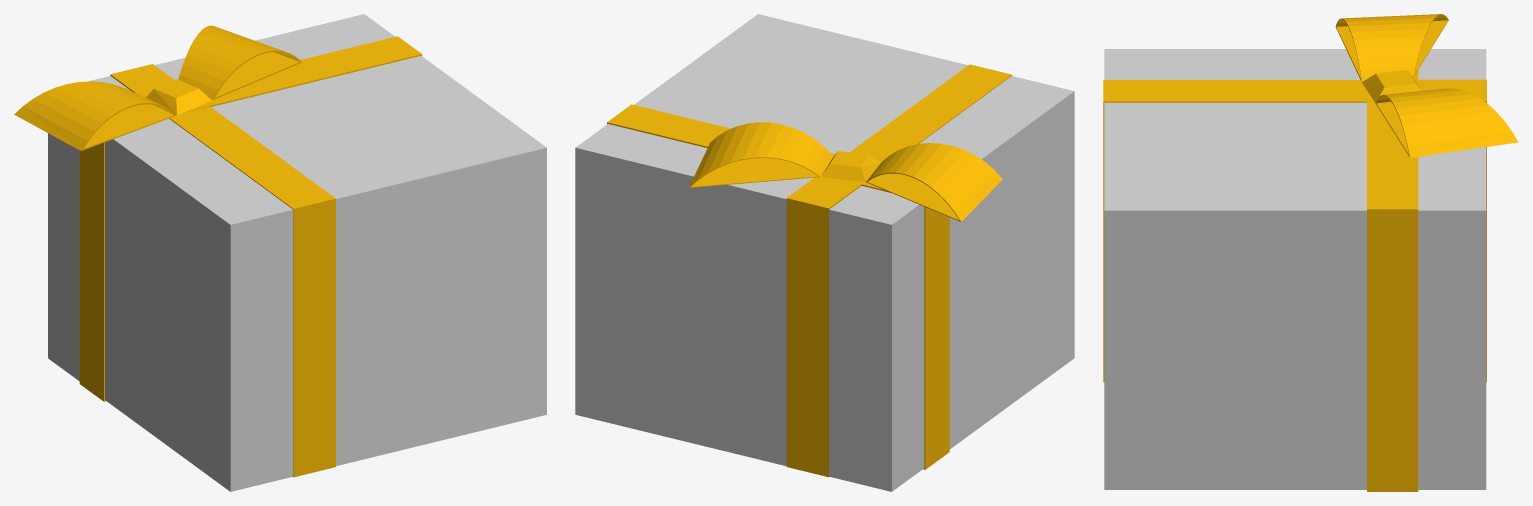
The model's file is Prop_Christmas_Present_White_08.FBX.
The picture shows the model from 3 angles, left to right: view 1: azimuth 30°, elevation 25°; view 2: azimuth 150°, elevation 25°; view 3: azimuth 270°, elevation 25°; orthographic projection. The views are drawn at different scales.
Visible parts, largest first — view 1: Prop_Christmas_Present_White_08; view 2: Prop_Christmas_Present_White_08; view 3: Prop_Christmas_Present_White_08.
Part boxes in pixels (x1,y1,x2,y2): Prop_Christmas_Present_White_08: (14, 14, 546, 491); Prop_Christmas_Present_White_08: (575, 14, 1074, 491); Prop_Christmas_Present_White_08: (1103, 14, 1518, 491).
Bounding box in the file's own units: 387 × 298 × 360.
